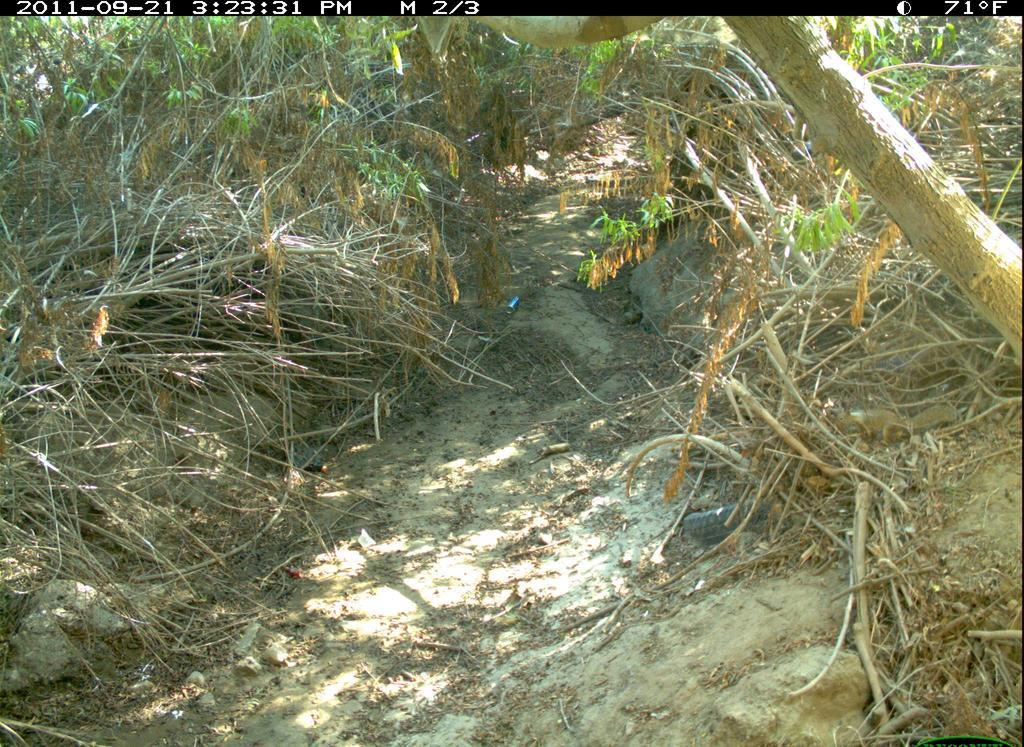squirrel: (827, 393, 965, 452)
